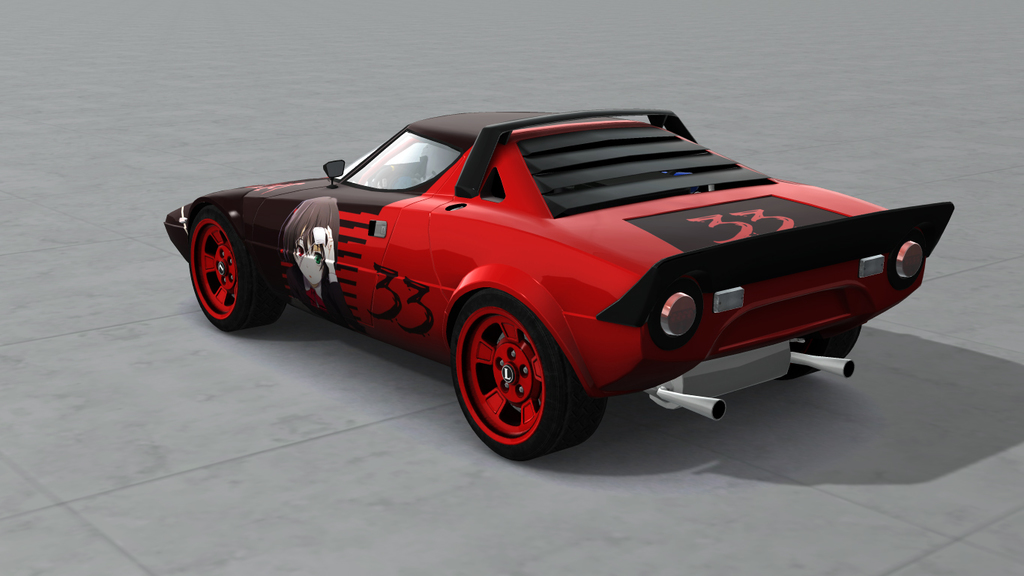Car: (168, 96, 952, 447)
